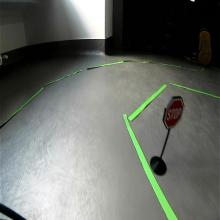stop: (163, 96, 185, 129)
